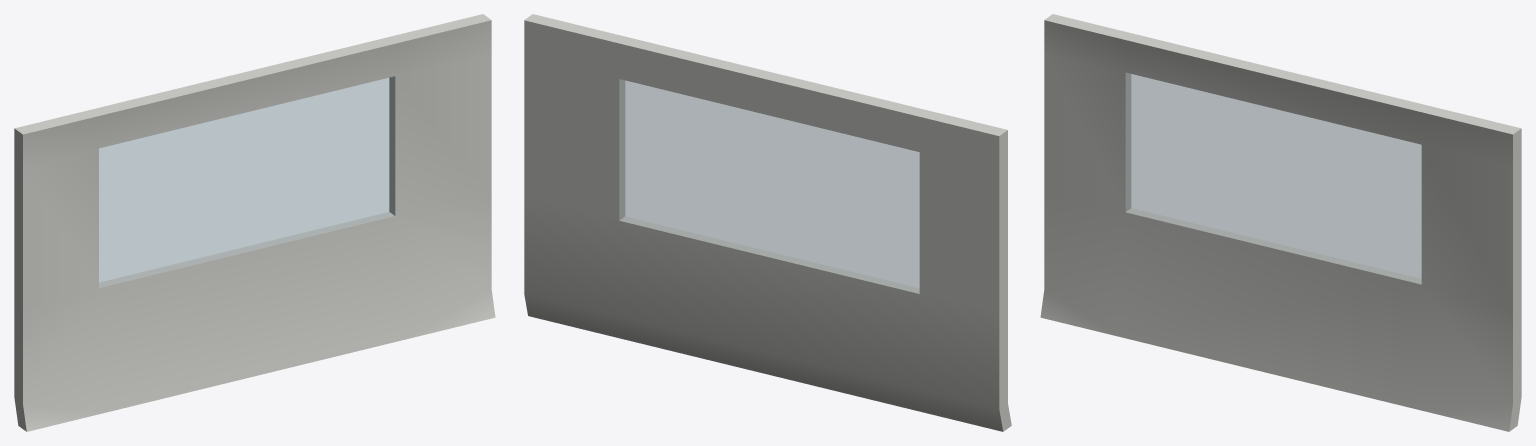
File: ticket-gate.glb
3 views of the same model, side by side, from view 1: azimuth 30°, elevation 25°; view 2: azimuth 150°, elevation 25°; view 3: azimuth 330°, elevation 25° (orthographic).
Visible parts, largest first — view 1: Dooor_Cube.002 / Door, Dooor_Cube.002 / Glass; view 2: Dooor_Cube.002 / Door, Dooor_Cube.002 / Glass; view 3: Dooor_Cube.002 / Door, Dooor_Cube.002 / Glass.
Boxes of the visible parts, x1=… form: Dooor_Cube.002 / Door: x1=14, y1=14, x2=495, y2=431; Dooor_Cube.002 / Glass: x1=99, y1=76, x2=394, y2=287; Dooor_Cube.002 / Door: x1=524, y1=14, x2=1011, y2=431; Dooor_Cube.002 / Glass: x1=619, y1=79, x2=919, y2=293; Dooor_Cube.002 / Door: x1=1040, y1=14, x2=1521, y2=431; Dooor_Cube.002 / Glass: x1=1126, y1=73, x2=1421, y2=283.
Size of the model in its own units: 1.86 by 1.12 by 0.085.
